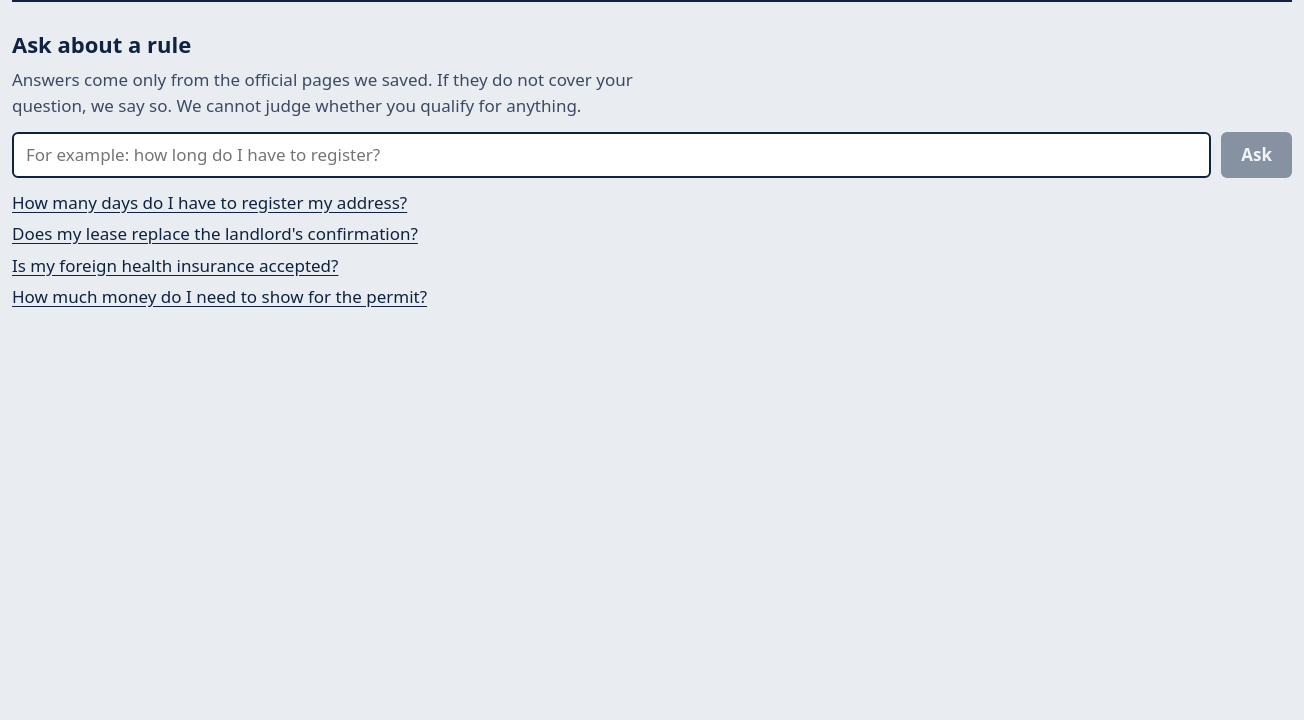
Ask form › pressing Enter submits a typed question
In the field named "Your question": {"x": 612, "y": 155} [12,132,1211,178], type "how long do I have to register"
Then press Enter
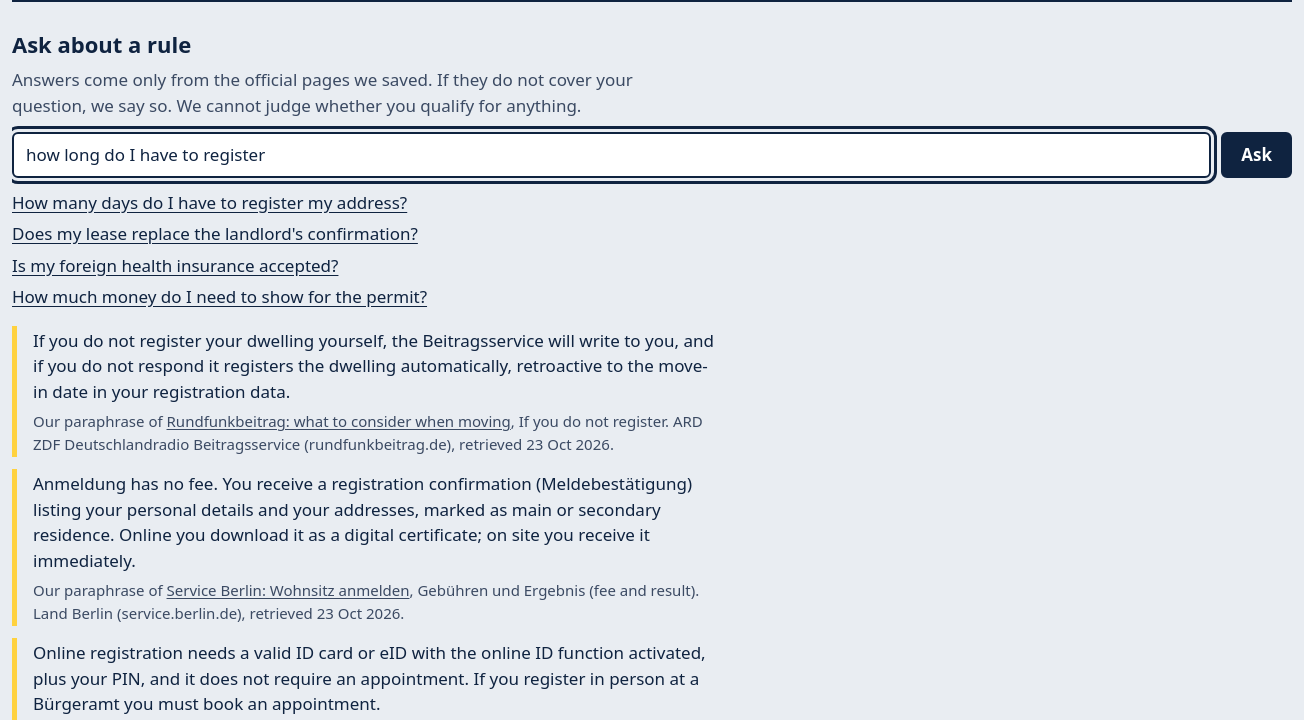
Now the text "retrieved" is shown, box [451,434,526,454]
